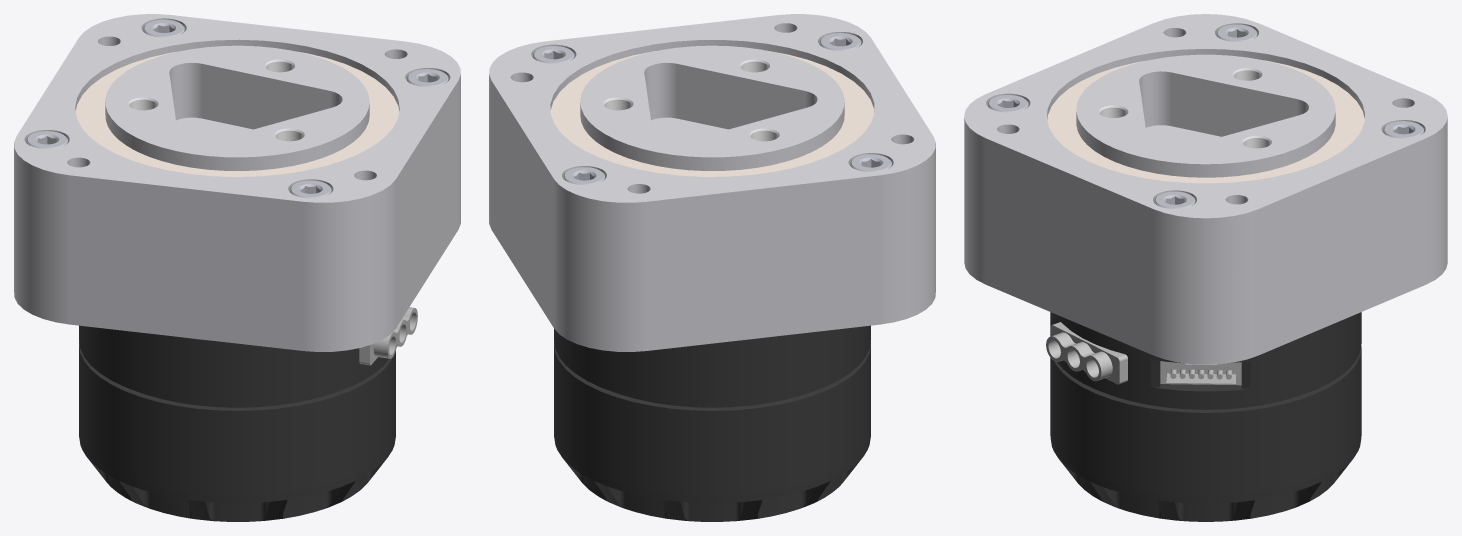
File: cycloidal-gearbox-lines.glb
3 views of the same model, side by side, from view 1: azimuth 30°, elevation 25°; view 2: azimuth 150°, elevation 25°; view 3: azimuth 270°, elevation 25° (orthographic).
Visible parts, largest first — view 1: 2026, R&D, Cycloidal Gearbox, Mk2, Output Cap-1, RoboMaster M3508 P19 Brushless DC Gear Motor(2)^RM3508_NoGea (×2), 2026, R&D, Cycloidal Gearbox, Mk2, Rotor Casing-1, 2026, R&D, Cycloidal Gearbox, Mk2, Shaft-1, Bearing_35mmID_47mmOD_7W-1, 2026, R&D, Cycloidal Gearbox, Cycloidal Mk2, SocketHeadScrew_Configured-9; view 2: 2026, R&D, Cycloidal Gearbox, Mk2, Output Cap-1, RoboMaster M3508 P19 Brushless DC Gear Motor(2)^RM3508_NoGea, 2026, R&D, Cycloidal Gearbox, Mk2, Rotor Casing-1, 2026, R&D, Cycloidal Gearbox, Mk2, Shaft-1, Bearing_35mmID_47mmOD_7W-1, 2026, R&D, Cycloidal Gearbox, Cycloidal Mk2, SocketHeadScrew_Configured-9; view 3: 2026, R&D, Cycloidal Gearbox, Mk2, Output Cap-1, RoboMaster M3508 P19 Brushless DC Gear Motor(2)^RM3508_NoGea (×3), 2026, R&D, Cycloidal Gearbox, Mk2, Rotor Casing-1, 2026, R&D, Cycloidal Gearbox, Mk2, Shaft-1, Bearing_35mmID_47mmOD_7W-1, 2026, R&D, Cycloidal Gearbox, Cycloidal Mk2, SocketHeadScrew_Configured-9.
Boxes of the visible parts, x1=… form: 2026, R&D, Cycloidal Gearbox, Mk2, Output Cap-1: x1=14, y1=14, x2=460, y2=262; RoboMaster M3508 P19 Brushless DC Gear Motor(2)^RM3508_NoGea (×2): x1=79, y1=307, x2=417, y2=521; 2026, R&D, Cycloidal Gearbox, Mk2, Rotor Casing-1: x1=14, y1=135, x2=460, y2=351; 2026, R&D, Cycloidal Gearbox, Mk2, Shaft-1: x1=105, y1=45, x2=369, y2=170; Bearing_35mmID_47mmOD_7W-1: x1=75, y1=51, x2=399, y2=176; 2026, R&D, Cycloidal Gearbox, Cycloidal Mk2: x1=143, y1=19, x2=448, y2=198; SocketHeadScrew_Configured-9: x1=26, y1=131, x2=67, y2=148; 2026, R&D, Cycloidal Gearbox, Mk2, Output Cap-1: x1=489, y1=14, x2=935, y2=262; RoboMaster M3508 P19 Brushless DC Gear Motor(2)^RM3508_NoGea: x1=554, y1=325, x2=870, y2=521; 2026, R&D, Cycloidal Gearbox, Mk2, Rotor Casing-1: x1=489, y1=135, x2=935, y2=351; 2026, R&D, Cycloidal Gearbox, Mk2, Shaft-1: x1=580, y1=45, x2=844, y2=170; Bearing_35mmID_47mmOD_7W-1: x1=550, y1=50, x2=874, y2=176; 2026, R&D, Cycloidal Gearbox, Cycloidal Mk2: x1=533, y1=33, x2=861, y2=184; SocketHeadScrew_Configured-9: x1=850, y1=154, x2=891, y2=171; 2026, R&D, Cycloidal Gearbox, Mk2, Output Cap-1: x1=964, y1=14, x2=1447, y2=277; RoboMaster M3508 P19 Brushless DC Gear Motor(2)^RM3508_NoGea (×3): x1=1046, y1=312, x2=1361, y2=521; 2026, R&D, Cycloidal Gearbox, Mk2, Rotor Casing-1: x1=964, y1=177, x2=1447, y2=364; 2026, R&D, Cycloidal Gearbox, Mk2, Shaft-1: x1=1076, y1=54, x2=1335, y2=177; Bearing_35mmID_47mmOD_7W-1: x1=1047, y1=60, x2=1364, y2=183; 2026, R&D, Cycloidal Gearbox, Cycloidal Mk2: x1=988, y1=95, x2=1423, y2=208; SocketHeadScrew_Configured-9: x1=1216, y1=24, x2=1257, y2=41.
Bounding box in the file's own units: 0.0653 × 0.0579 × 0.0653.
